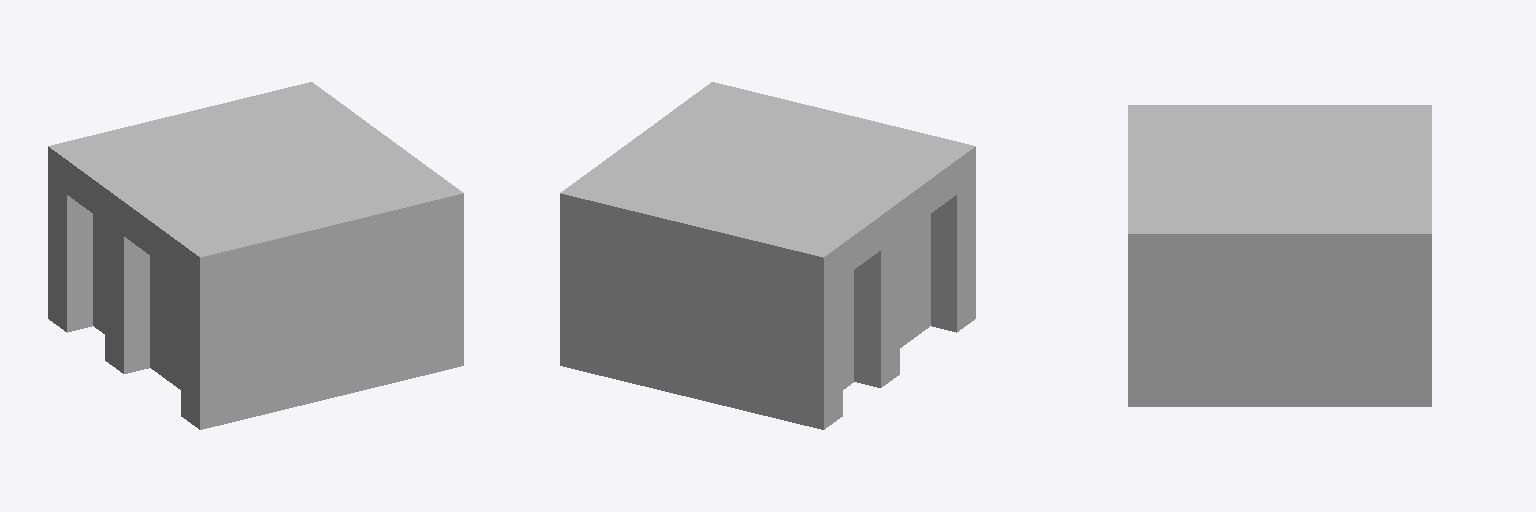
The picture shows the model from 3 angles: view 1: azimuth 30°, elevation 25°; view 2: azimuth 150°, elevation 25°; view 3: azimuth 270°, elevation 25°; orthographic projection.
Parts seen in each view (by area): view 1: G-__555762_G-__555762_Brick, G-__555762_G-__555762_Glass; view 2: G-__555762_G-__555762_Brick, G-__555762_G-__555762_Glass; view 3: G-__555762_G-__555762_Brick.
Part boxes in pixels (x1,y1,x2,y2): G-__555762_G-__555762_Brick: (48, 82, 463, 429); G-__555762_G-__555762_Glass: (93, 214, 180, 389); G-__555762_G-__555762_Brick: (560, 82, 975, 429); G-__555762_G-__555762_Glass: (843, 214, 930, 389); G-__555762_G-__555762_Brick: (1128, 105, 1431, 406).
Bounding box in the file's own units: 1 × 0.625 × 1.